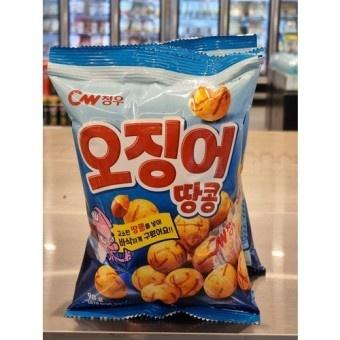snack: (48, 43, 264, 327)
